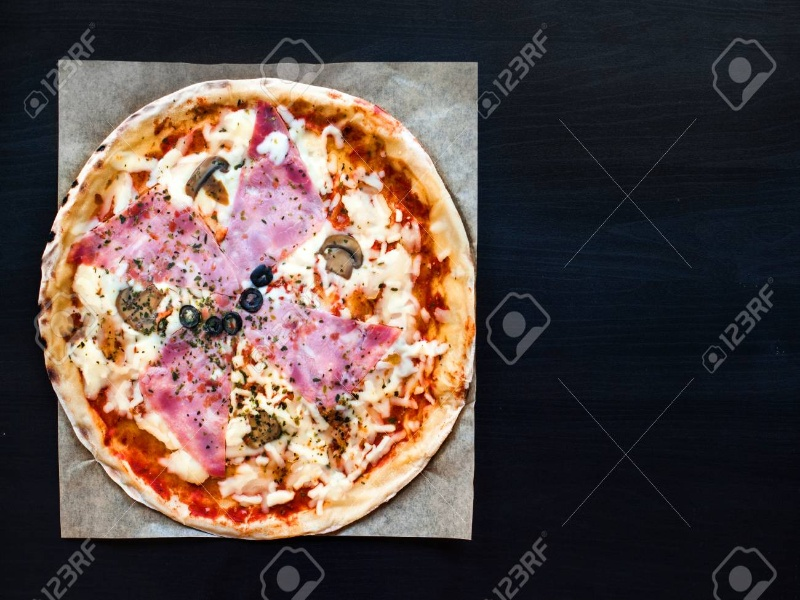olive noir: (236, 286, 266, 315), (176, 303, 204, 332), (217, 310, 248, 336)
